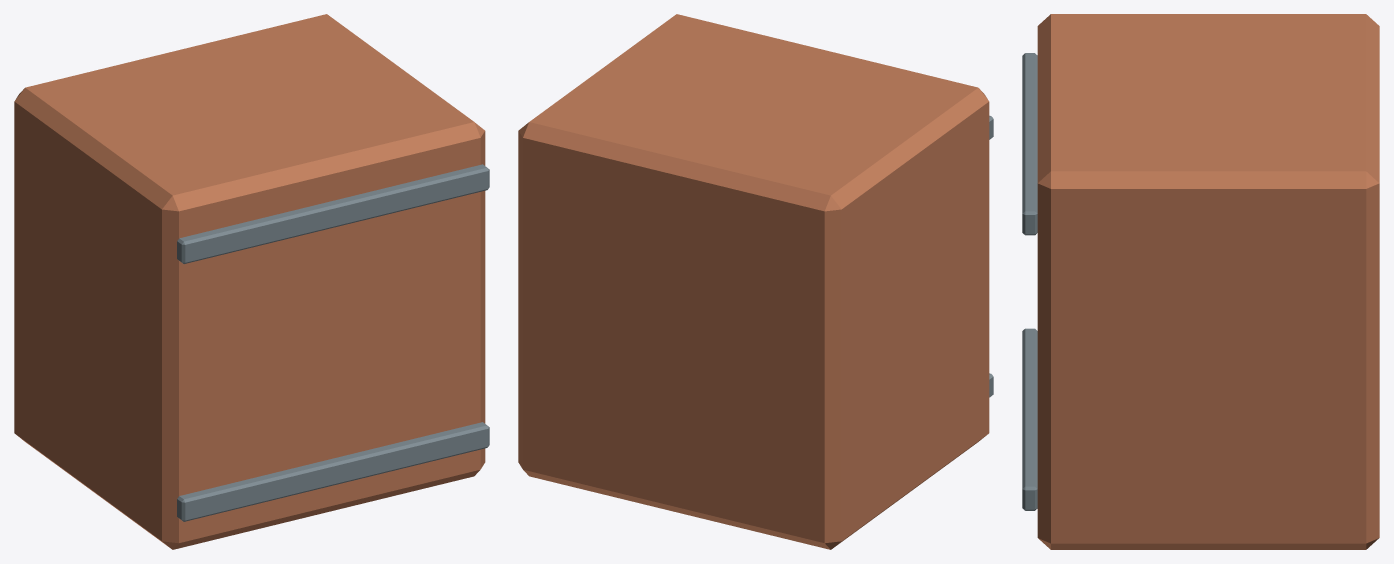
The model's file is street_004_seed11.glb.
3 views of the same model, side by side, from view 1: azimuth 30°, elevation 25°; view 2: azimuth 150°, elevation 25°; view 3: azimuth 270°, elevation 25° (orthographic). The views are drawn at different scales.
Parts seen in each view (by area): view 1: street_004_seed11; view 2: street_004_seed11; view 3: street_004_seed11.
Part boxes in pixels (x1,y1,x2,y2): street_004_seed11: (14, 14, 489, 549); street_004_seed11: (518, 14, 993, 549); street_004_seed11: (1022, 14, 1379, 549).
Bounding box in the file's own units: 1.05 × 1.1 × 0.94.
